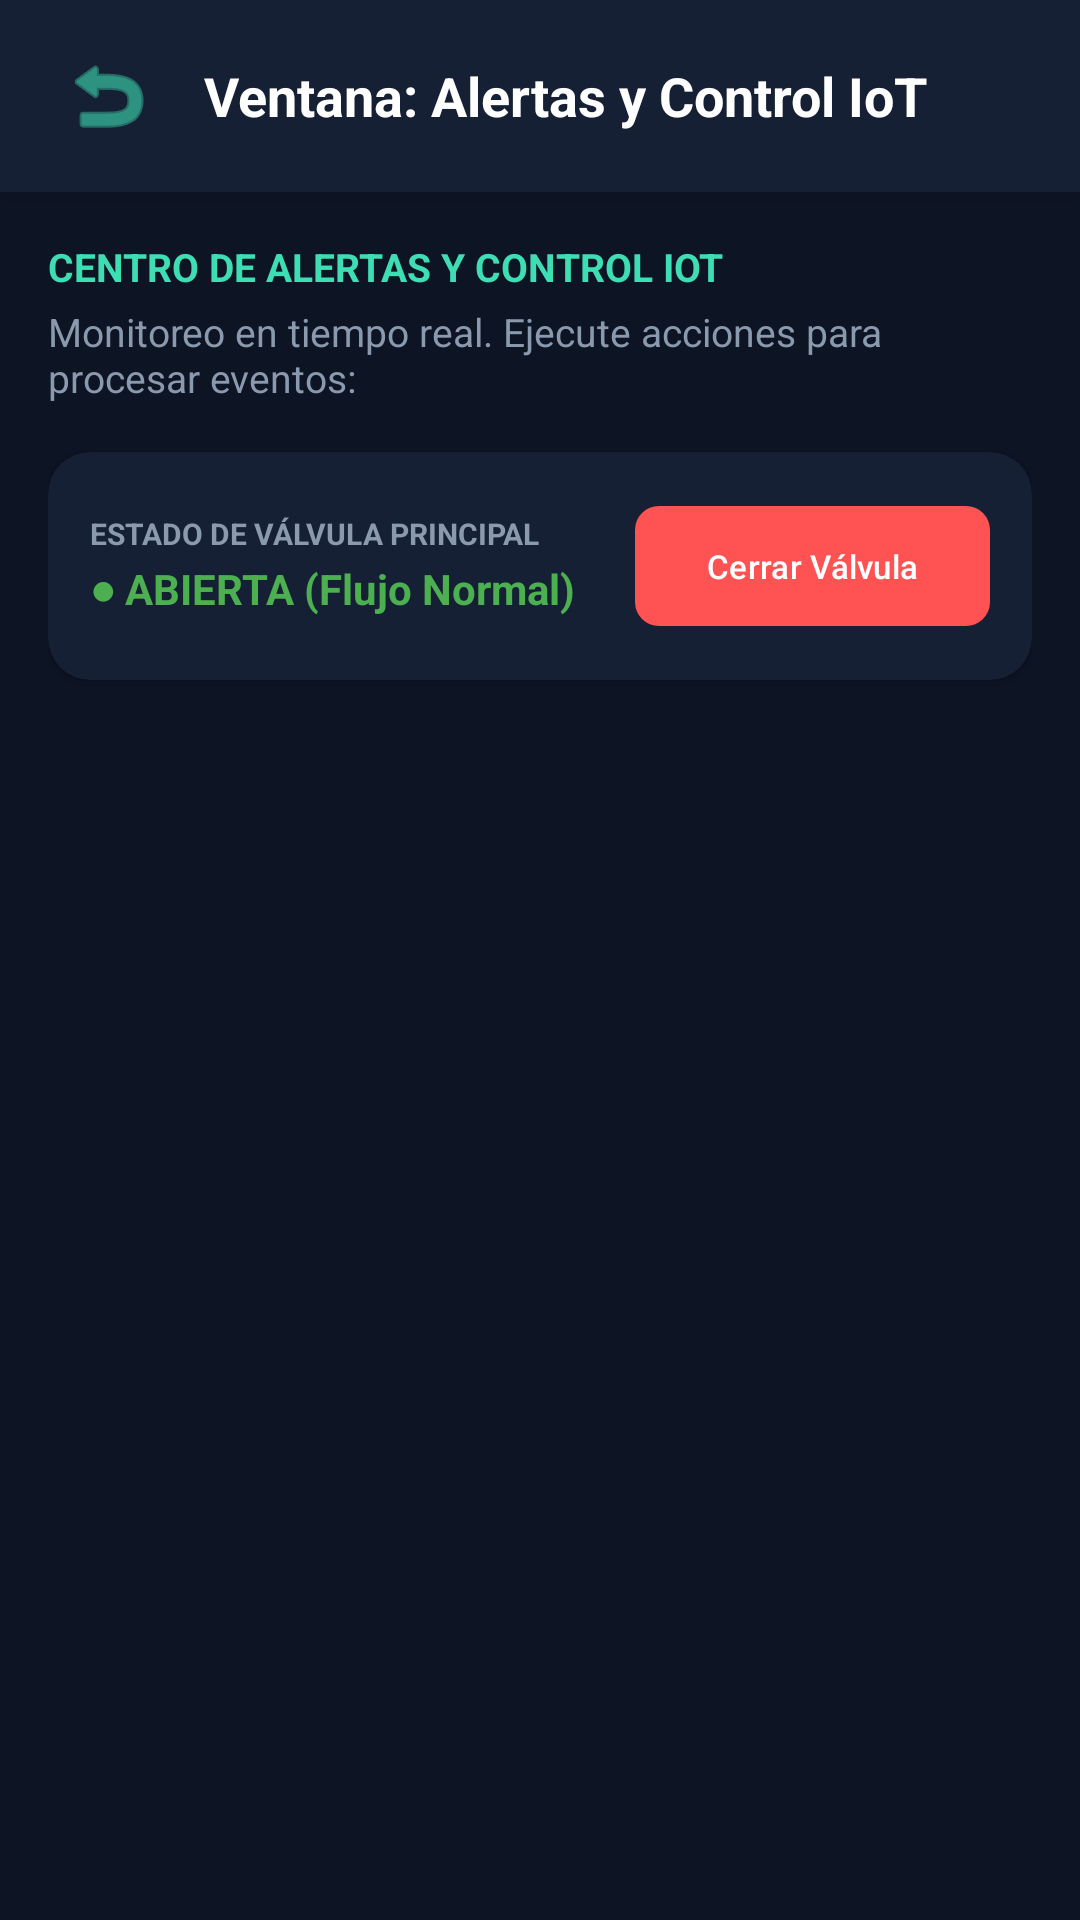

Named icons in this screenshot (1080px×1920px) and their bounding boxes, (x1, y1, x2, y2):
Volver: (75, 65, 144, 128)
